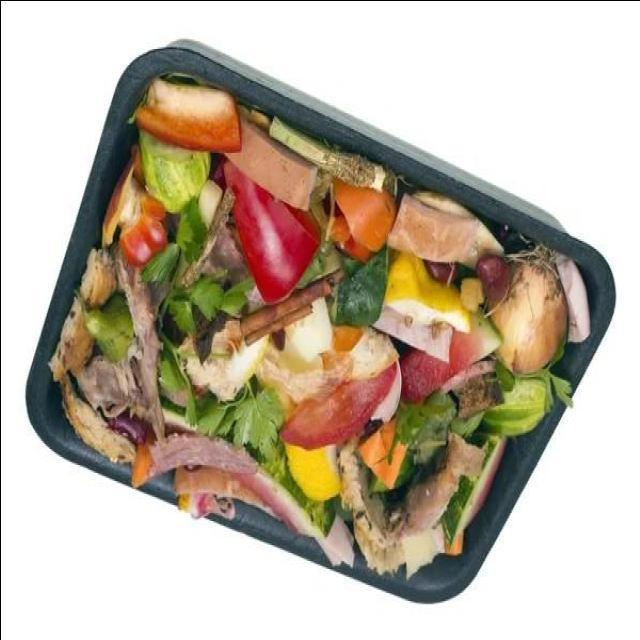Garbage: (30, 58, 614, 602)
